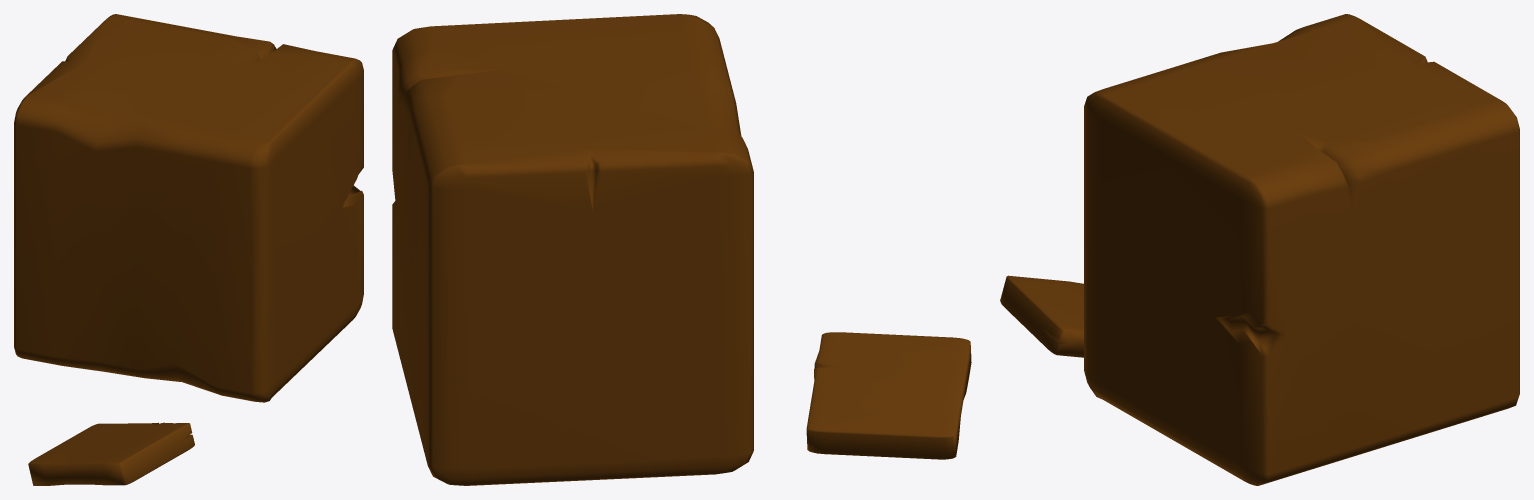
File: Piedras.fbx
The picture shows the model from 3 angles, left to right: view 1: azimuth 30°, elevation 25°; view 2: azimuth 150°, elevation 25°; view 3: azimuth 270°, elevation 25°; orthographic projection. The views are drawn at different scales.
Visible parts, largest first — view 1: piedra007, piedra006; view 2: piedra007, piedra006; view 3: piedra007, piedra006.
Part boxes in pixels (x1,y1,x2,y2): piedra007: (14, 14, 363, 402); piedra006: (28, 422, 194, 485); piedra007: (392, 14, 753, 485); piedra006: (806, 332, 971, 459); piedra007: (1084, 14, 1519, 485); piedra006: (1000, 275, 1083, 357).
Size of the model in its own units: 180 by 130 by 175.
